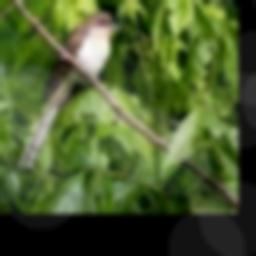Cuckoo: (18, 11, 123, 169)
